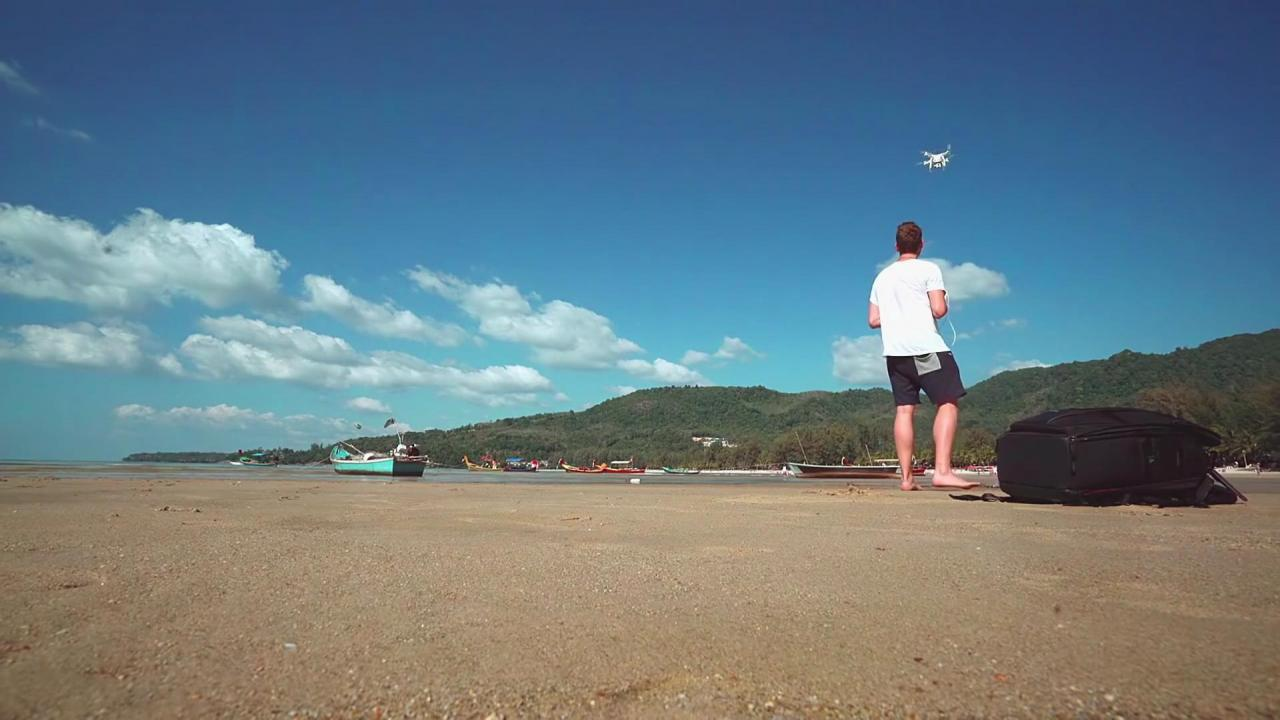Drone: (907, 137, 966, 180)
